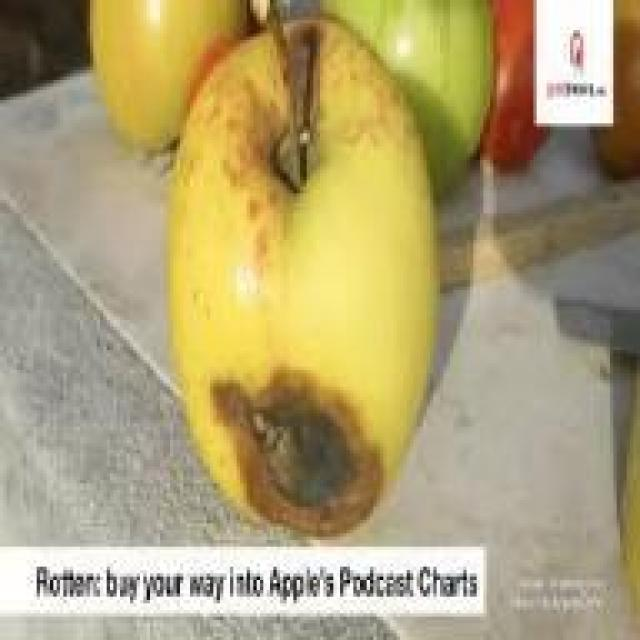apple: (177, 33, 440, 517), (324, 3, 494, 187), (87, 7, 243, 163), (480, 7, 567, 190)
